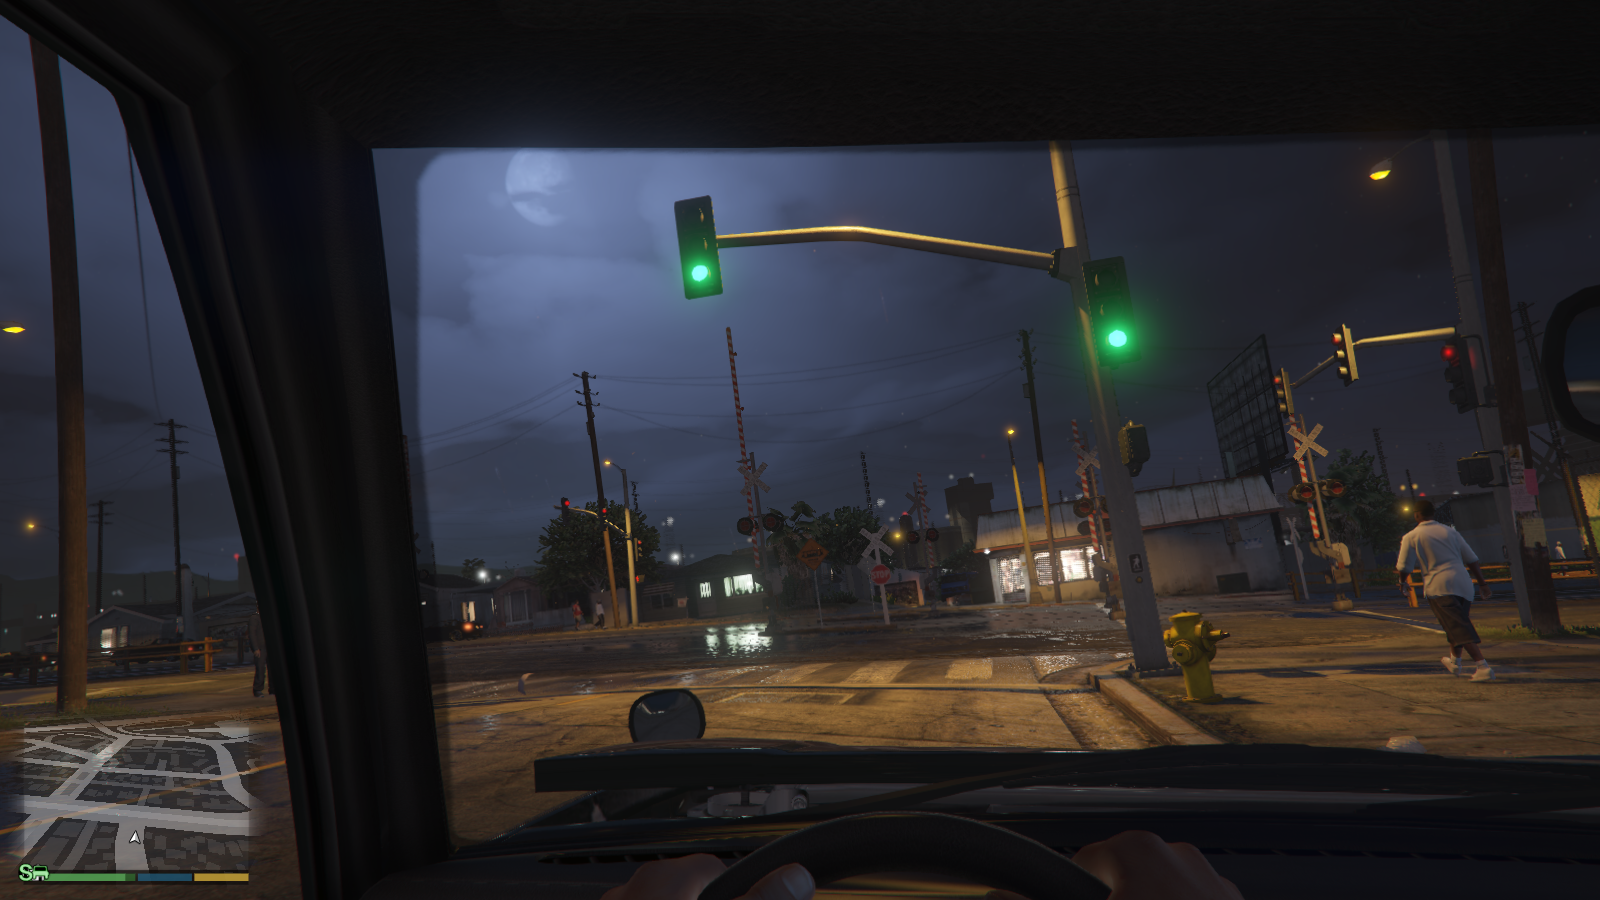green: (670, 196, 727, 301), (1082, 257, 1140, 363)
